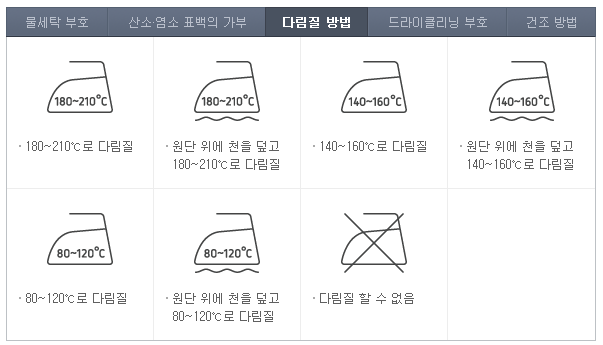do_not_iron: (339, 211, 408, 271)
